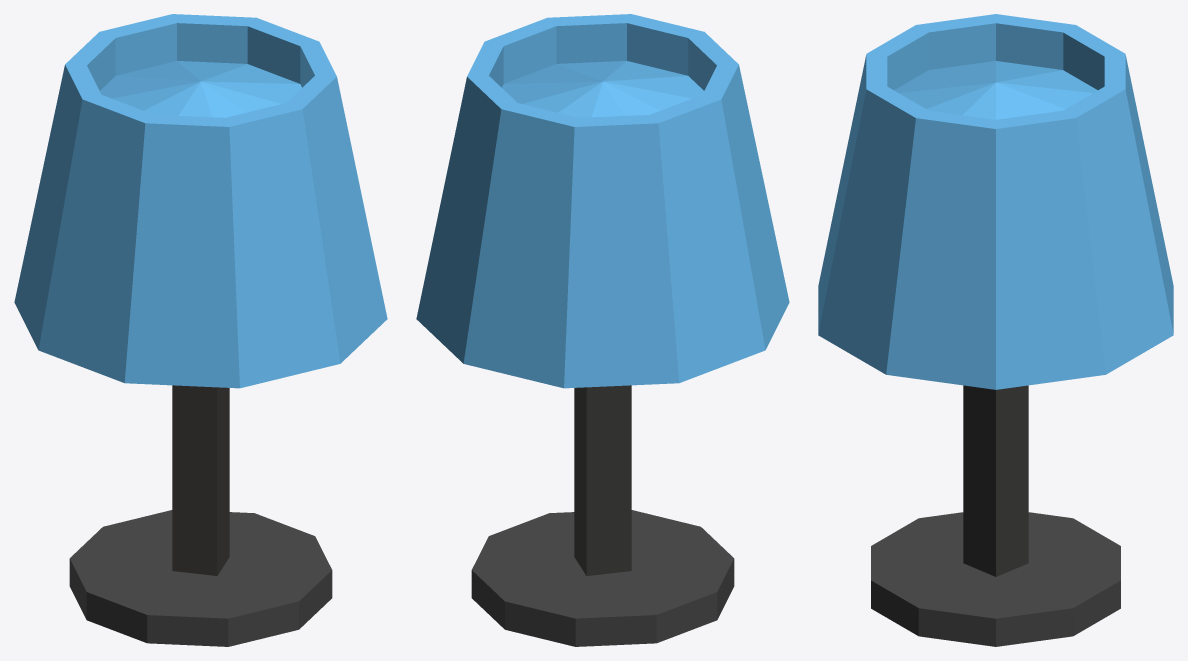
Rendered from Lamp_night_1B.fbx.
The picture shows the model from 3 angles, left to right: view 1: azimuth 30°, elevation 25°; view 2: azimuth 150°, elevation 25°; view 3: azimuth 270°, elevation 25°; orthographic projection.
Parts seen in each view (by area): view 1: polySurface2322; view 2: polySurface2322; view 3: polySurface2322.
Boxes of the visible parts, <box> form: polySurface2322: <box>14,14,387,646</box>; polySurface2322: <box>416,14,789,646</box>; polySurface2322: <box>818,14,1173,646</box>.
Bounding box in the file's own units: 0.5872 × 0.901 × 0.5585.
1 material, 1 textured.
